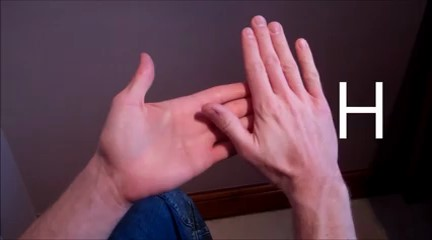H: (91, 12, 339, 207)
